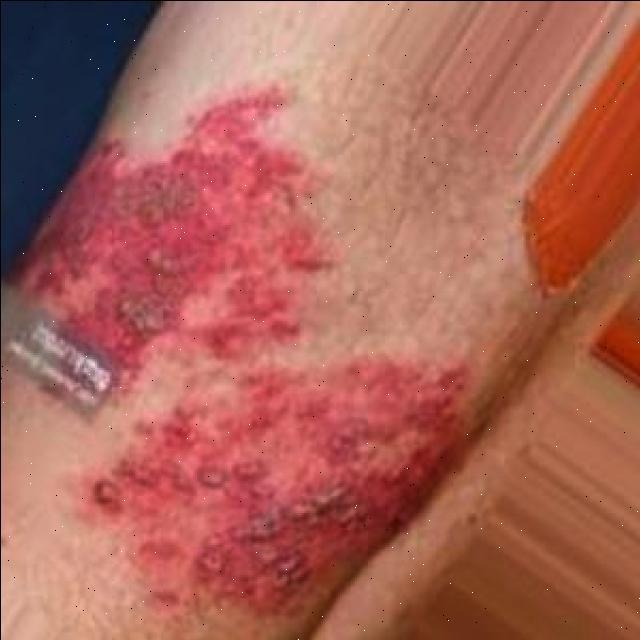Shingles: (96, 356, 472, 610), (22, 82, 334, 358)
